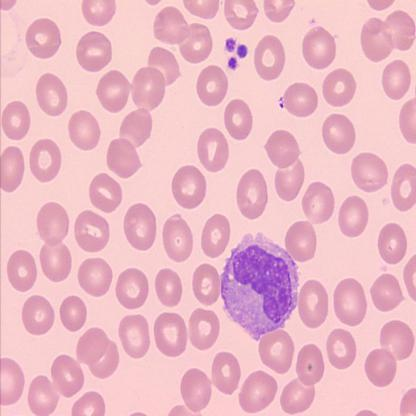Lymphocyte: (218, 229, 303, 344)
